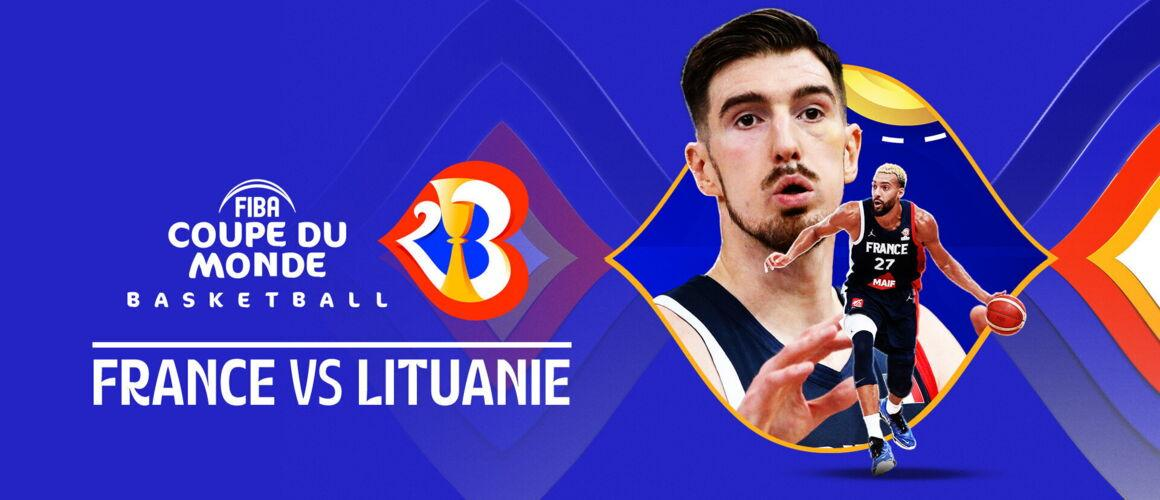basketball: (985, 293, 1028, 338)
